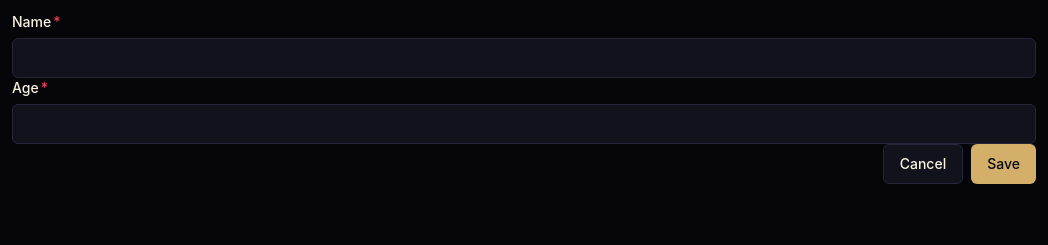
Test: react-hook-form + zod + Common Form fields › surfaces zod validation errors through each field's own error prop, UI-side, before any submit happens
Click the button "Save".
click(1004, 164)  # box [971, 144, 1036, 184]
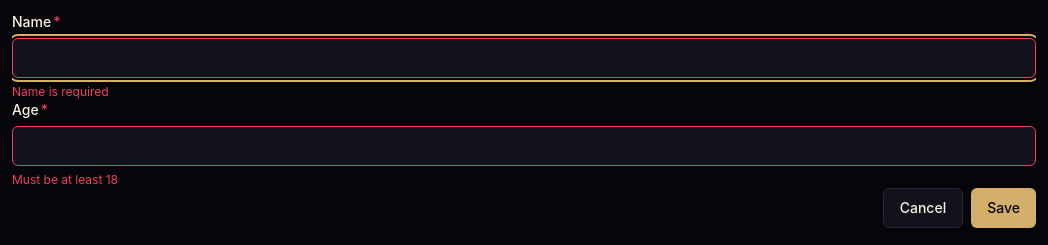
Check: the text "Name is required" is shown, box [12, 84, 109, 99]
Check: the text "Must be at least 18" is shown, box [12, 172, 118, 187]
